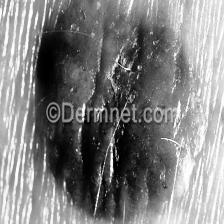Benign Marking or Mole: (31, 3, 197, 220)
